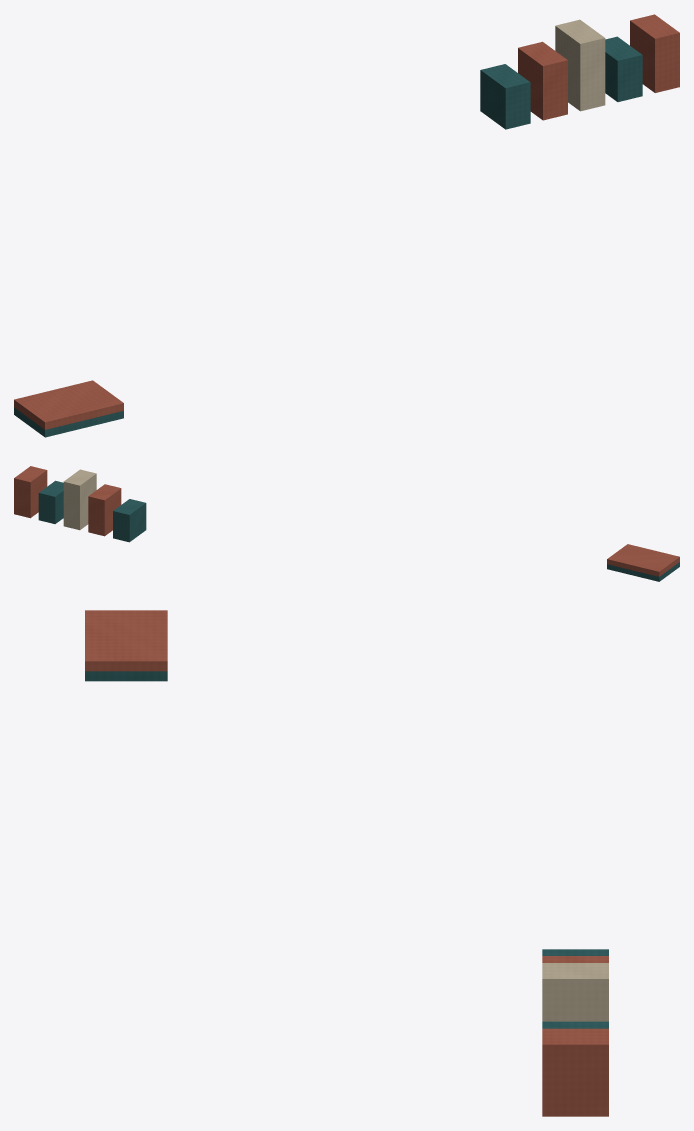
The model's file is detail_props.glb.
3 views of the same model, one above another, from view 1: azimuth 30°, elevation 25°; view 2: azimuth 150°, elevation 25°; view 3: azimuth 270°, elevation 25° (orthographic). The views are drawn at different scales.
Visible parts, largest first — view 1: SUI_DeskBook_2, SUI_TableBook_1, SUI_DeskBook_1, SUI_DeskBook_4, SUI_DeskBook_0, SUI_DeskBook_3, SUI_TableBook_0; view 2: SUI_DeskBook_2, SUI_TableBook_1, SUI_DeskBook_1, SUI_DeskBook_4, SUI_DeskBook_0, SUI_DeskBook_3, SUI_TableBook_0; view 3: SUI_DeskBook_4, SUI_TableBook_1, SUI_DeskBook_2, SUI_TableBook_0.
Boxes of the visible parts, x1,y1,x2,y2 form: SUI_DeskBook_2: (555, 19, 605, 111); SUI_TableBook_1: (14, 380, 123, 429); SUI_DeskBook_1: (518, 41, 567, 120); SUI_DeskBook_4: (630, 14, 679, 92); SUI_DeskBook_0: (480, 64, 530, 129); SUI_DeskBook_3: (605, 36, 642, 101); SUI_TableBook_0: (14, 407, 123, 437); SUI_DeskBook_2: (63, 469, 96, 530); SUI_TableBook_1: (607, 544, 679, 576); SUI_DeskBook_1: (88, 484, 121, 536); SUI_DeskBook_4: (14, 466, 47, 518); SUI_DeskBook_0: (113, 499, 146, 542); SUI_DeskBook_3: (38, 480, 63, 523); SUI_TableBook_0: (607, 562, 679, 581); SUI_DeskBook_4: (542, 1028, 608, 1116); SUI_TableBook_1: (85, 610, 167, 671); SUI_DeskBook_2: (542, 963, 608, 1021); SUI_TableBook_0: (85, 671, 167, 681).
Bounding box in the file's own units: 3.89 × 0.435 × 1.65.
Materials: 3 (3 with a texture image).
